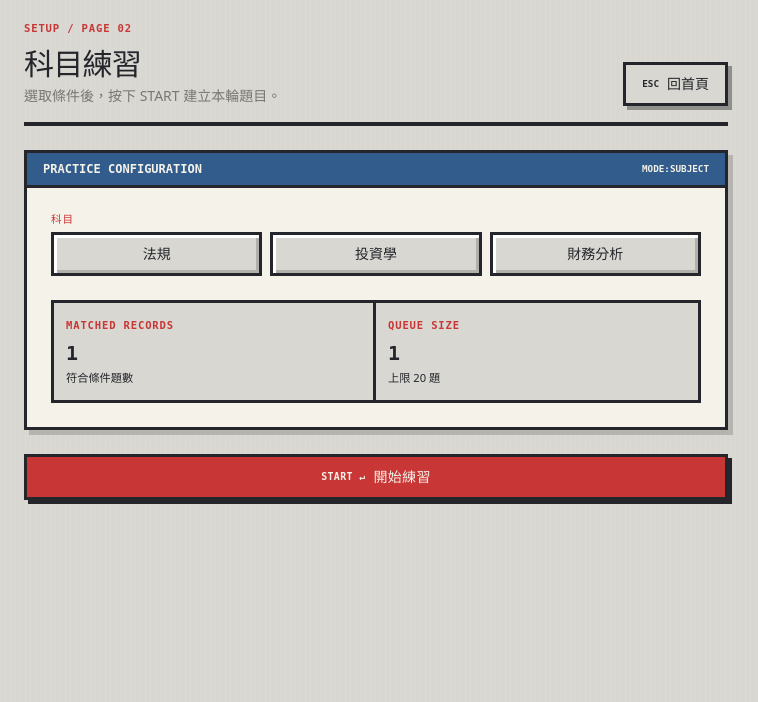
Test case: PracticeSetup › starts the existing quiz flow with the filtered fixture question
Click the button "法規".
click(157, 254)  # box [51,232,262,276]
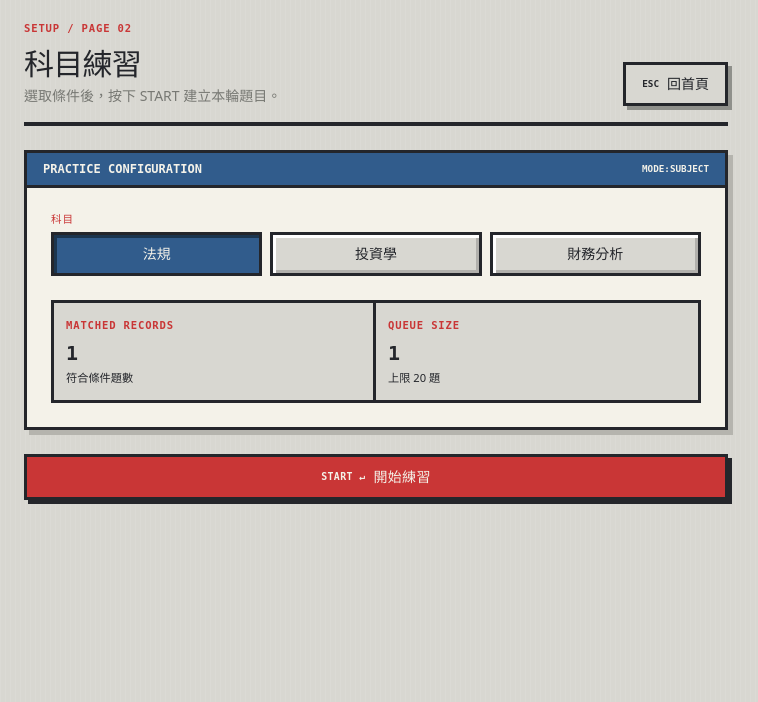
Click the button "START ↵ 開始練習".
click(376, 477)  # box [24,454,728,500]
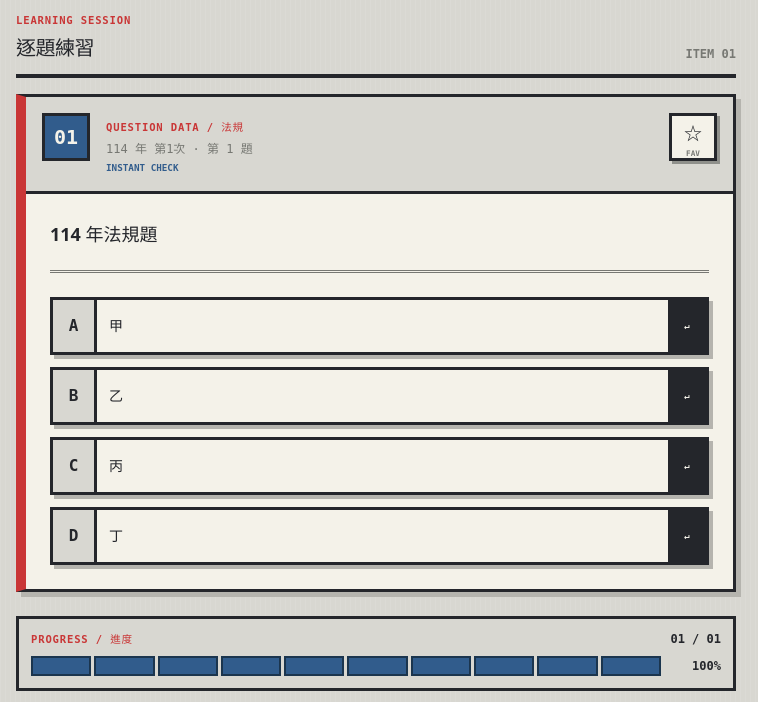
Now the text "114 年法規題" is shown, box [50,218,709,273]
